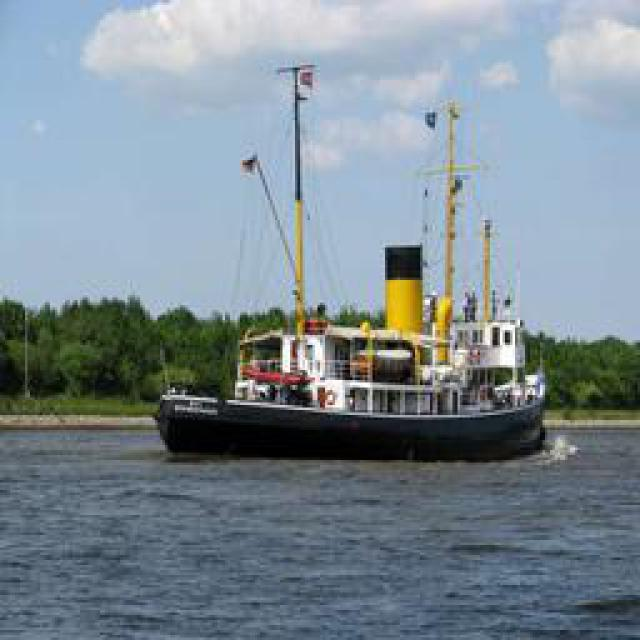Ship: (170, 81, 548, 471)
